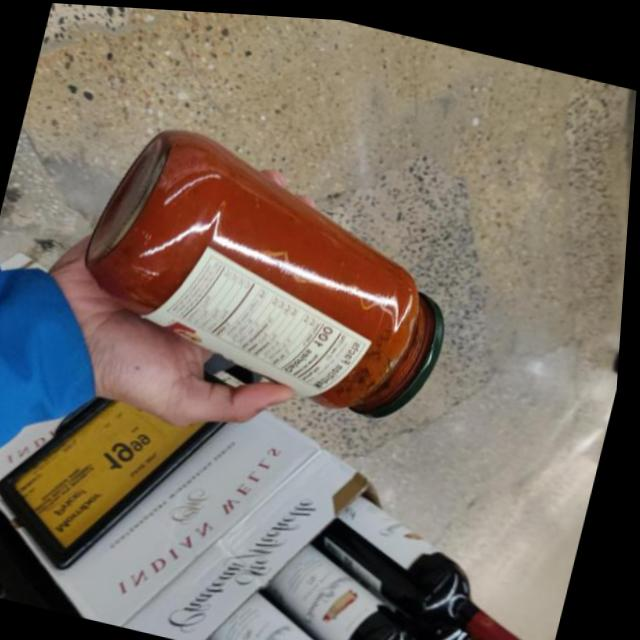Sauce: (67, 105, 490, 428)
